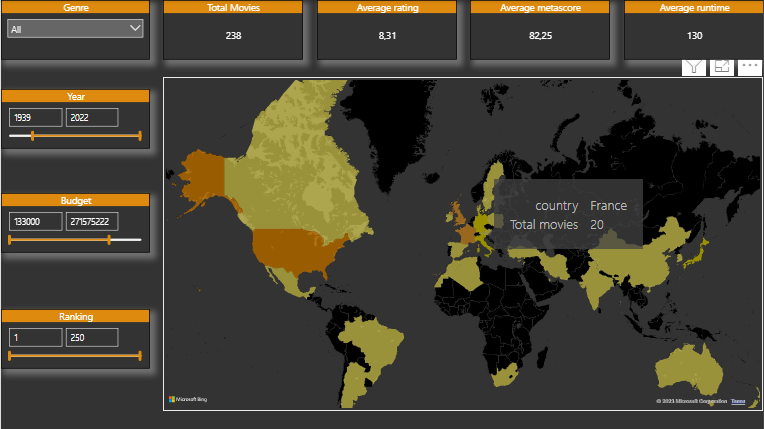

This screenshot's page, from the dashboard's own definition file:
{"tool":"powerbi","page":{"name":"Overview","canvas":[1280,720],"ordinal":0},"visuals":[{"type":"slicer","title":"Ranking","fields":{"Values":["movies_main.top 250 rank"]},"box":[0,518.7,250,100],"z":0},{"type":"slicer","title":"Year","fields":{"Values":["movies_main.year"]},"box":[0,150.2,250,100],"z":1000},{"type":"slicer","title":"Budget","fields":{"Values":["movies_main.Budget"]},"box":[0,324.6,250,100],"z":2000},{"type":"filledMap","fields":{"Category":["movies_countries.country"]},"box":[272.1,129,1007.7,561.3],"z":3000},{"type":"slicer","title":"Genre","fields":{"Values":["movies_genres.genre"]},"box":[0,0,250,100],"z":4000},{"type":"card","title":"Total Movies","fields":{"Values":["movies_main.Total movies"]},"box":[272.1,0,235,100],"z":5000},{"type":"card","title":"Average rating","fields":{"Values":["Avg(movies_main.rating)"]},"box":[531.5,0,235,100],"z":6000},{"type":"card","title":"Average metascore","fields":{"Values":["Avg(movies_main.metascore)"]},"box":[788,0,235,100],"z":7000},{"type":"card","title":"Average runtime","fields":{"Values":["Avg(movies_main.runtime)"]},"box":[1046,0,235,100],"z":8000}]}

Visuals, with their boxes in screenshot pixels (x1, y1, x2, y2), scaled from the page's 1280x720 canvas onto the 764x429 screenshot:
"Ranking" slicer: 0/309/149/369
"Year" slicer: 0/89/149/149
"Budget" slicer: 0/193/149/253
filledMap - movies_countries.country: 162/77/763/411
"Genre" slicer: 0/0/149/60
"Total Movies" card: 162/0/303/60
"Average rating" card: 317/0/458/60
"Average metascore" card: 470/0/611/60
"Average runtime" card: 624/0/763/60
